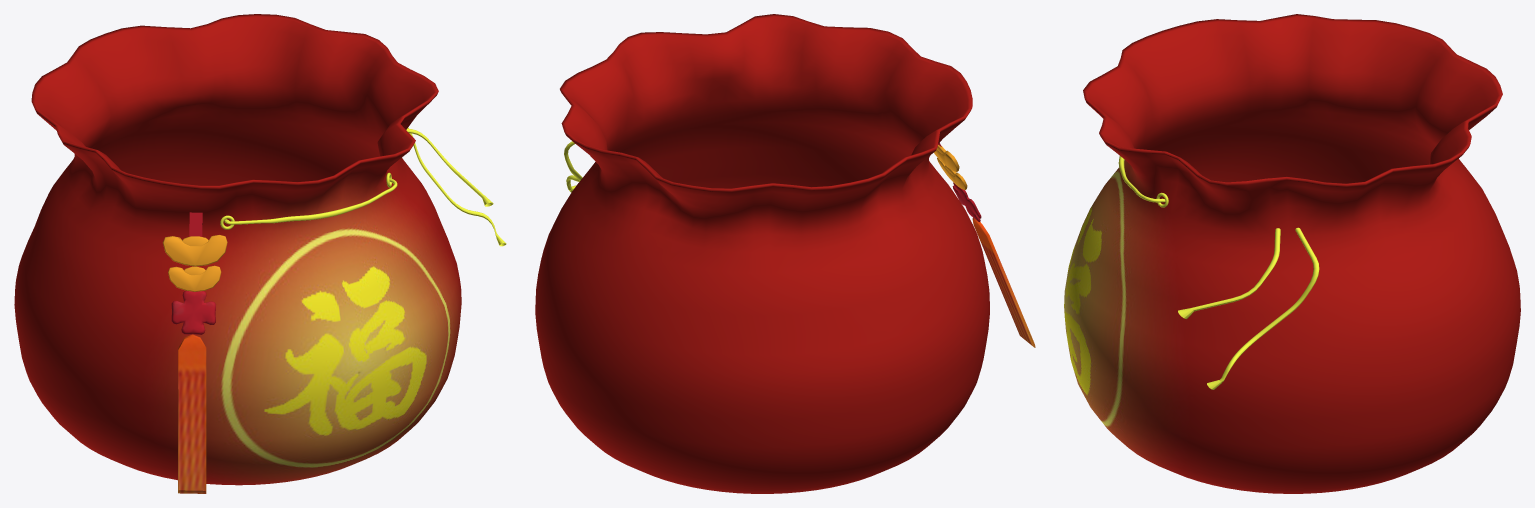
Rendered from uploads_files_3412919_money+bag.fbx.
3 views of the same model, side by side, from view 1: azimuth 30°, elevation 25°; view 2: azimuth 150°, elevation 25°; view 3: azimuth 270°, elevation 25° (orthographic). The views are drawn at different scales.
Parts seen in each view (by area): view 1: Sphere001, Rectangle001, Line003; view 2: Sphere001, Rectangle001; view 3: Sphere001, Line003.
Boxes of the visible parts, x1=… form: Sphere001: x1=14, y1=14, x2=461, y2=485; Rectangle001: x1=162, y1=212, x2=227, y2=493; Line003: x1=224, y1=127, x2=506, y2=246; Sphere001: x1=535, y1=14, x2=989, y2=493; Rectangle001: x1=934, y1=143, x2=1035, y2=347; Sphere001: x1=1064, y1=14, x2=1520, y2=493; Line003: x1=1118, y1=156, x2=1319, y2=389.
Size of the model in its own units: 6.27 by 4.93 by 5.76.
3 materials, 2 textured.
